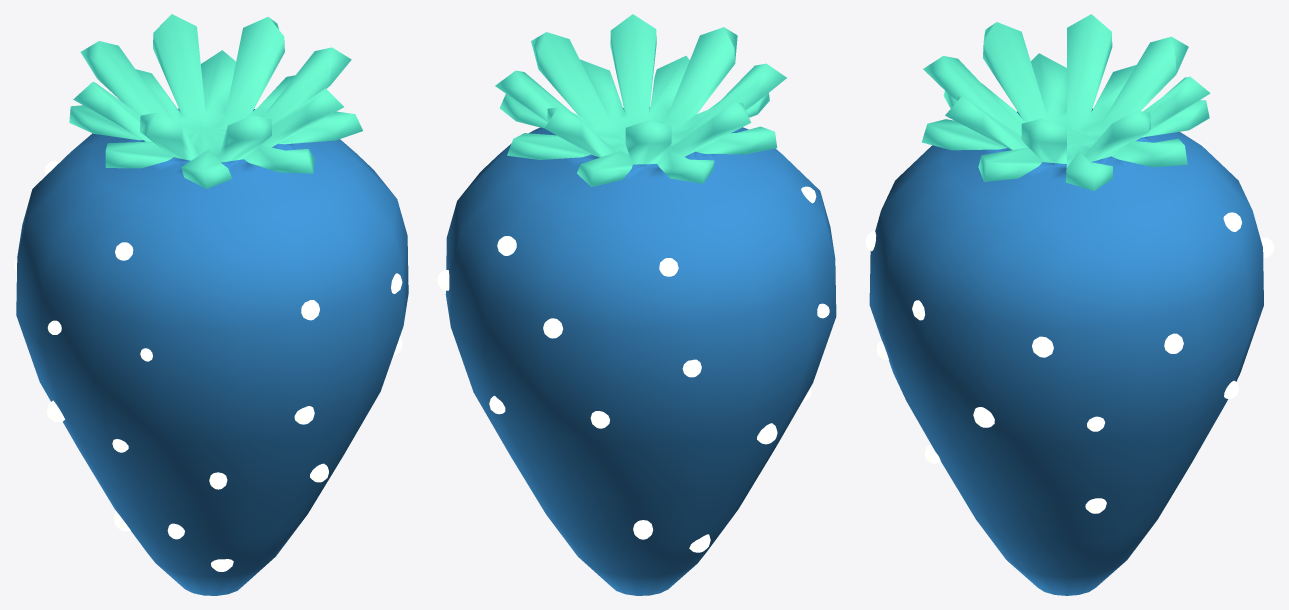
The model's file is morango.fbx.
The picture shows the model from 3 angles, left to right: view 1: azimuth 30°, elevation 25°; view 2: azimuth 150°, elevation 25°; view 3: azimuth 270°, elevation 25°; orthographic projection.
Visible parts, largest first — view 1: Sphere, Sphere.017; view 2: Sphere, Sphere.017; view 3: Sphere, Sphere.017.
Part boxes in pixels (x1=…): Sphere: x1=16, y1=14, x2=408, y2=595; Sphere.017: x1=14, y1=161, x2=402, y2=571; Sphere: x1=445, y1=14, x2=836, y2=595; Sphere.017: x1=437, y1=186, x2=836, y2=552; Sphere: x1=869, y1=14, x2=1263, y2=595; Sphere.017: x1=865, y1=142, x2=1274, y2=513.
Bounding box in the file's own units: 82.98 × 118 × 84.46.
